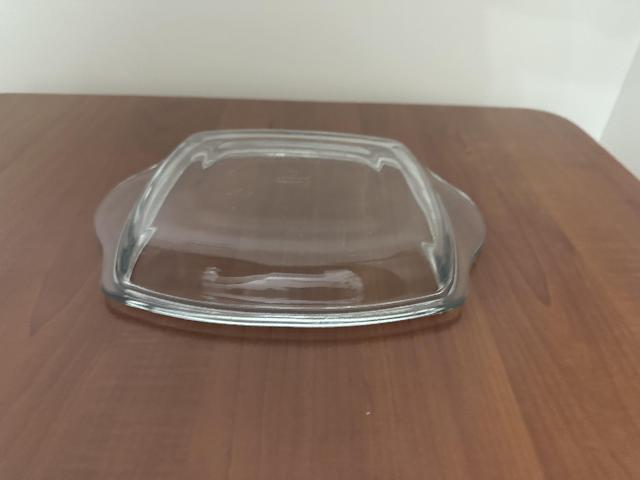Cam: (92, 127, 489, 331)
